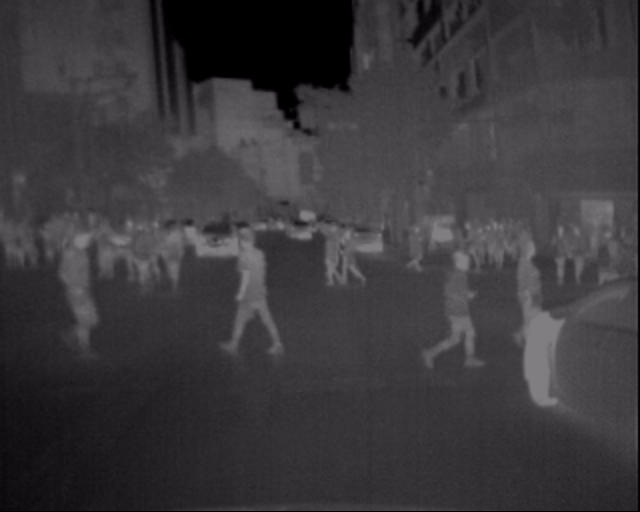person: (31, 217, 124, 379), (416, 232, 517, 379), (219, 218, 291, 363), (510, 223, 560, 350), (435, 217, 532, 277), (540, 220, 631, 274), (121, 220, 170, 303), (157, 221, 195, 310), (87, 212, 119, 290), (51, 220, 81, 290), (315, 231, 345, 286)
